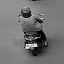mobil: (5, 5, 54, 57)
